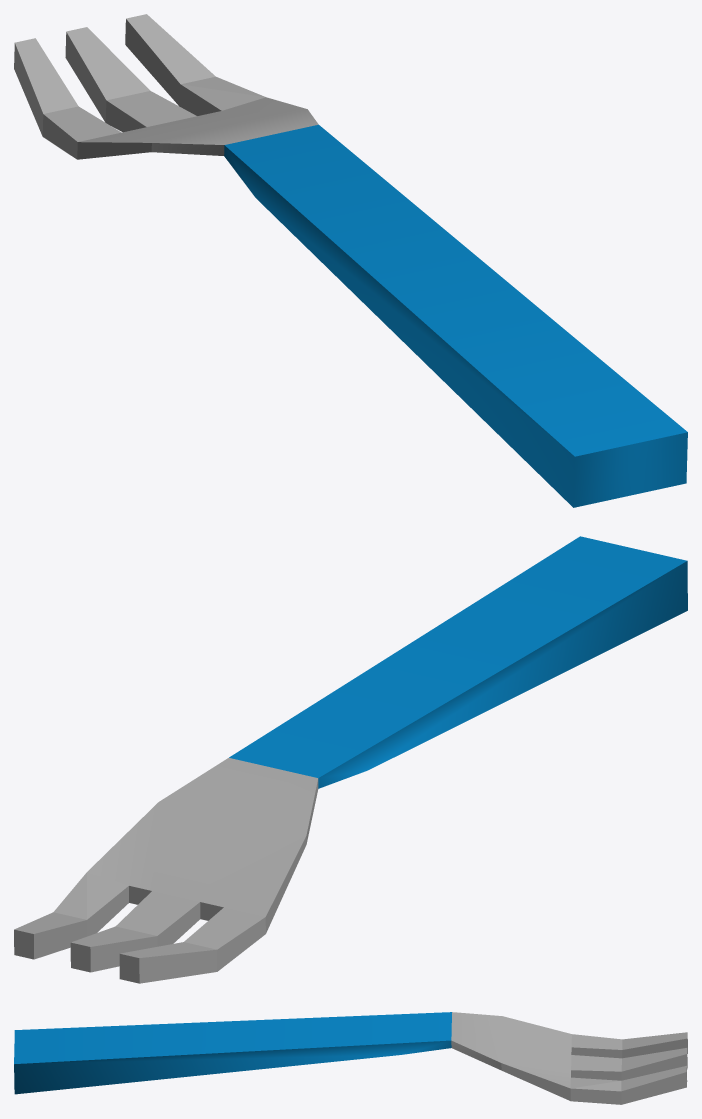
Rendered from Fork_Blue.fbx.
3 views of the same model, one above another, from view 1: azimuth 30°, elevation 25°; view 2: azimuth 150°, elevation 25°; view 3: azimuth 270°, elevation 25° (orthographic). The views are drawn at different scales.
Parts seen in each view (by area): view 1: Fork_Blue; view 2: Fork_Blue; view 3: Fork_Blue.
Part boxes in pixels (box(x1,y1,x2,y2)): Fork_Blue: box(14, 14, 687, 507); Fork_Blue: box(14, 536, 687, 983); Fork_Blue: box(14, 1012, 687, 1104).
Size of the model in its own units: 3.01 by 1.41 by 15.72.
